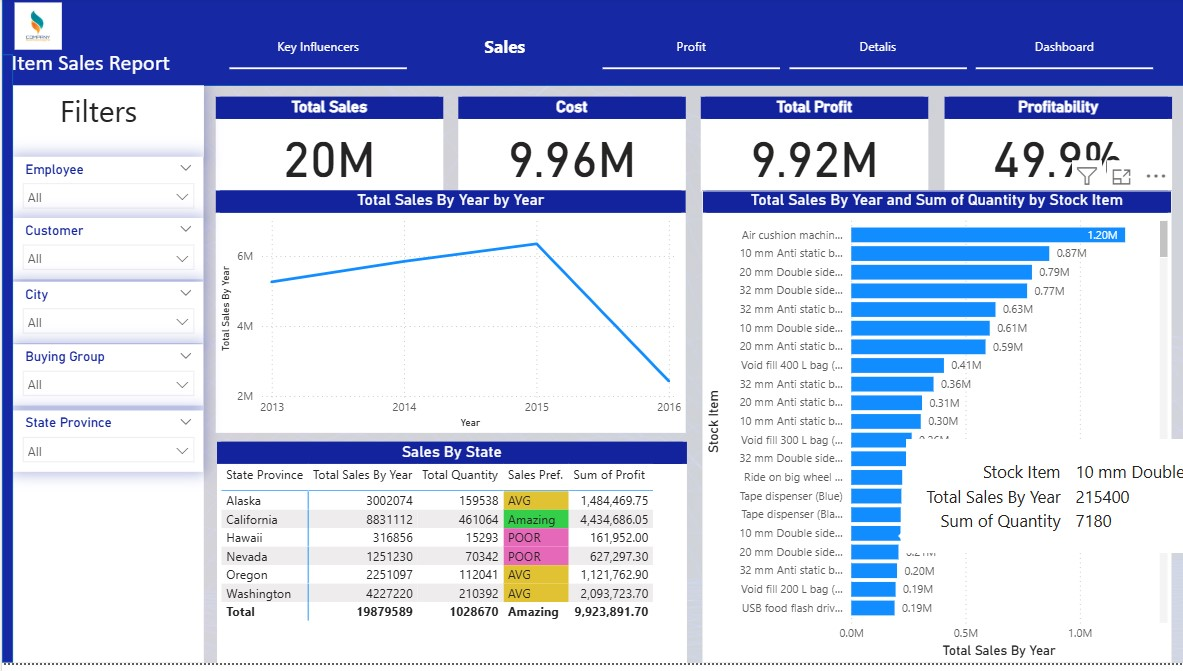

This screenshot's page, from the dashboard's own definition file:
{"tool":"powerbi","page":{"name":"Sales","canvas":[1280,720],"ordinal":1},"visuals":[{"type":"shape","box":[0,0,1280,95.3],"z":0},{"type":"shape","box":[0,61.3,12.1,658.7],"z":1000},{"type":"shape","box":[12.1,95.1,206.3,624.9],"z":2000},{"type":"textbox","box":[6,50.7,334.2,44.6],"z":3000},{"type":"image","box":[0,0,78.8,61.2],"z":4000},{"type":"card","title":"Total Sales","fields":{"Values":["Sum(FactSale.Total Excluding Tax)"]},"box":[231.2,106.2,246.2,102.5],"z":5000},{"type":"card","title":"Cost","fields":{"Values":["Sum(FactSale.Cost)"]},"box":[494.2,106.2,246.2,102.5],"z":6000},{"type":"card","title":"Total Profit","fields":{"Values":["Sum(FactSale.Profit)"]},"box":[757.1,106.2,246.2,102.5],"z":7000},{"type":"card","title":"Profitability","fields":{"Values":["FactSale.profitability"]},"box":[1020,106.2,246.2,102.5],"z":8000},{"type":"textbox","box":[12.5,95,206.2,77.5],"z":9000},{"type":"lineChart","fields":{"Category":["DimDate.Date.Variation.Date Hierarchy.Year"],"Y":["Sum(FactSale.Total Excluding Tax)"]},"box":[231.2,208.8,508.8,262.5],"z":10000},{"type":"barChart","fields":{"Y":["Sum(FactSale.Total Excluding Tax)"],"Category":["DimStocItem.Stock Item"]},"box":[757.5,208.8,508.8,511.2],"z":11000},{"type":"pivotTable","title":"Sales By State","fields":{"Values":["Sum(FactSale.Total Excluding Tax)","Sum(FactSale.Quantity)","FactSale.Sales Pref.","Sum(FactSale.Profit)"],"Rows":["DimCity.State Province"]},"box":[232.5,480,508.8,240],"z":12000},{"type":"slicer","fields":{"Values":["DimEmployee.Employee"]},"box":[12.2,171.9,205.7,66.3],"z":13000},{"type":"slicer","fields":{"Values":["DimCustomer.Customer"]},"box":[12.2,238.2,205.7,66.3],"z":14000},{"type":"slicer","fields":{"Values":["DimCity.City"]},"box":[12.2,307.2,205.7,66.3],"z":15000},{"type":"slicer","fields":{"Values":["DimCustomer.Buying Group"]},"box":[12.2,374.9,205.7,66.3],"z":16000},{"type":"slicer","fields":{"Values":["DimCity.State Province"]},"box":[12.2,446.6,205.7,66.3],"z":17000},{"type":"pageNavigator","box":[246.3,27.1,1000.1,50.1],"z":18000}]}

Visuals, with their boxes on the page's 1280x720 design canvas (x1, y1, x2, y2). These are canvas units, not pixel positions in the 1183x671 screenshot, which may show the page scaled, cropped or inside an application window:
shape: bbox=[0, 0, 1280, 95]
shape: bbox=[0, 61, 12, 720]
shape: bbox=[12, 95, 218, 720]
textbox: bbox=[6, 51, 340, 95]
image: bbox=[0, 0, 79, 61]
"Total Sales" card: bbox=[231, 106, 477, 209]
"Cost" card: bbox=[494, 106, 740, 209]
"Total Profit" card: bbox=[757, 106, 1003, 209]
"Profitability" card: bbox=[1020, 106, 1266, 209]
textbox: bbox=[12, 95, 219, 172]
lineChart - DimDate.Date.Variation.Date Hierarchy.Year x Sum(FactSale.Total Excluding Tax): bbox=[231, 209, 740, 471]
barChart - Sum(FactSale.Total Excluding Tax) x DimStocItem.Stock Item: bbox=[758, 209, 1266, 720]
"Sales By State" pivotTable: bbox=[232, 480, 741, 720]
slicer - DimEmployee.Employee: bbox=[12, 172, 218, 238]
slicer - DimCustomer.Customer: bbox=[12, 238, 218, 304]
slicer - DimCity.City: bbox=[12, 307, 218, 374]
slicer - DimCustomer.Buying Group: bbox=[12, 375, 218, 441]
slicer - DimCity.State Province: bbox=[12, 447, 218, 513]
pageNavigator: bbox=[246, 27, 1246, 77]
